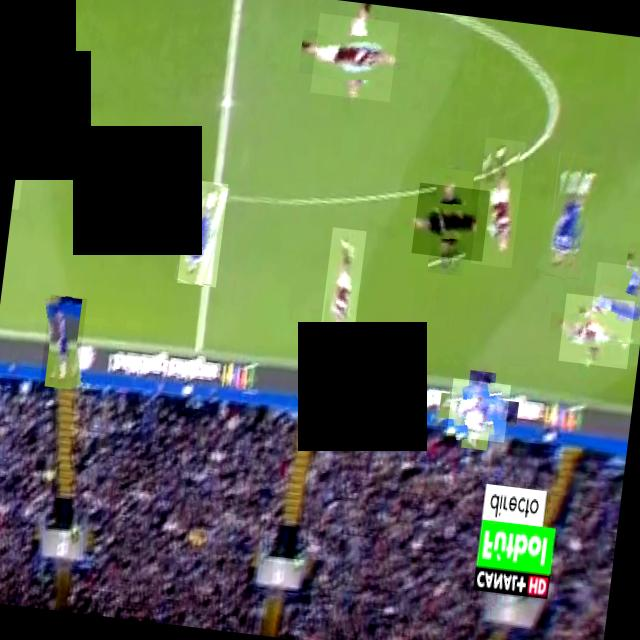referee: (411, 182, 490, 261)
soccer-player: (538, 150, 600, 281), (310, 12, 399, 102), (470, 137, 526, 268), (558, 292, 634, 368), (176, 179, 228, 287), (318, 227, 366, 343), (39, 294, 87, 391), (588, 261, 640, 344), (446, 378, 510, 442), (12, 84, 34, 210)
